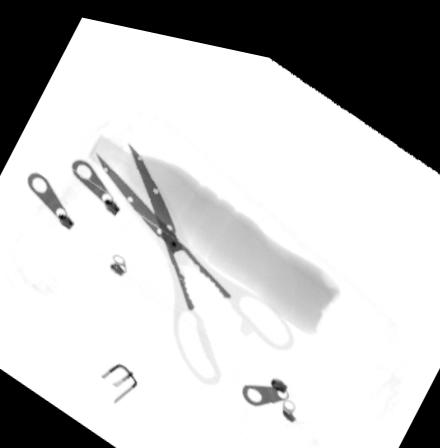Scissors: (94, 136, 298, 377)
